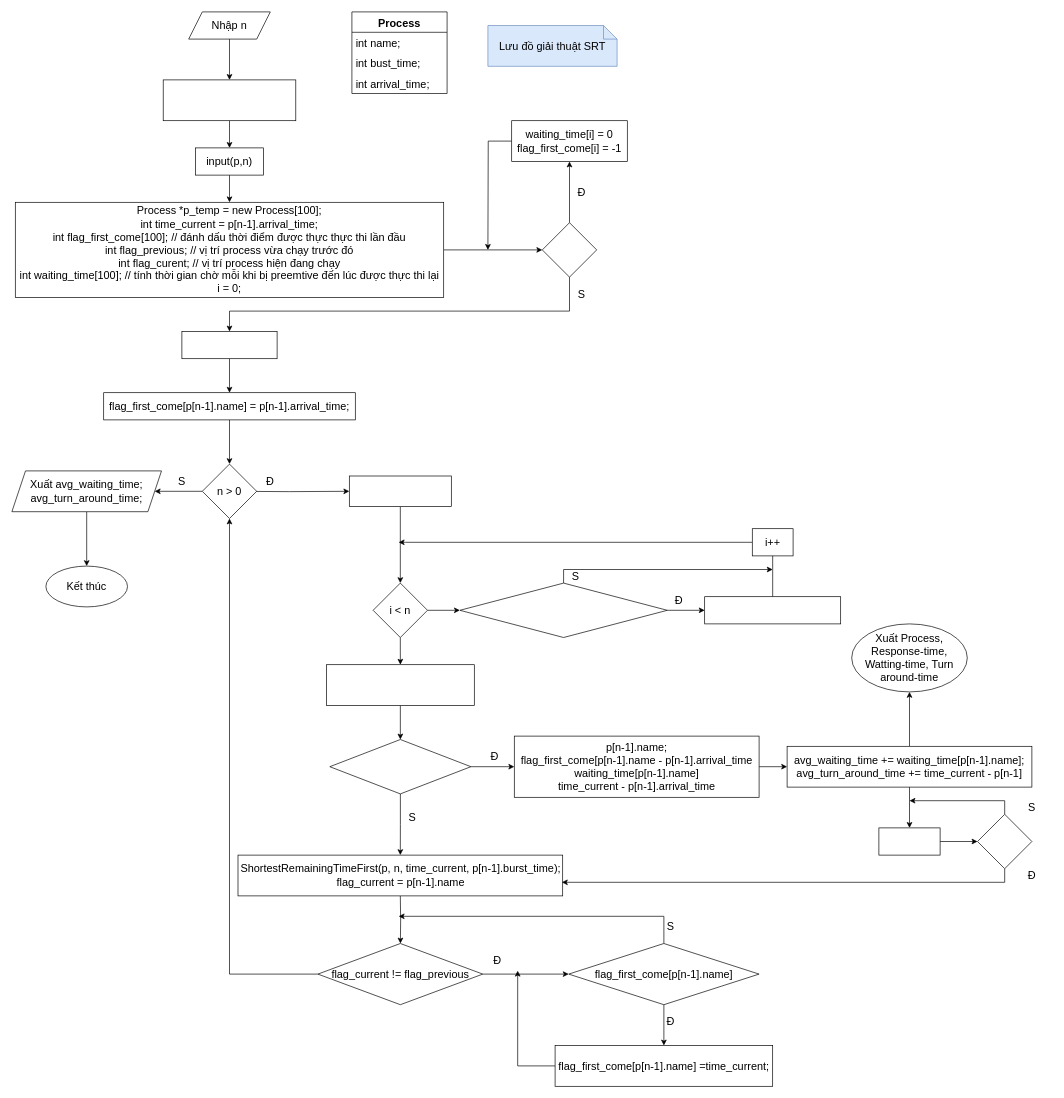
Image size: 1064x1098. Some labels were removed from this diagram. The centre of each missing label's shape, as x and y in pixels:
"i < 100;" belongs at point (569, 249).
"i = 0; avg_waiting_time = 0; avg_turn_around_time = 0;" belongs at point (229, 100).
"n == 0" belongs at point (1004, 841).
"n--" belongs at point (909, 841).
"p[i].arrival_time <= time_current" belongs at point (563, 610).
"p[n-1].burst_time == 0;" belongs at point (400, 766).
"p[n-1].burst_time--; i = 0" belongs at point (400, 491).
"sortByArrivalTime" belongs at point (229, 345).
"time_current++; flag_previous = p[n-1].name;" belongs at point (400, 685).
"waiting_time[p[i].name]++;" belongs at point (772, 610).
